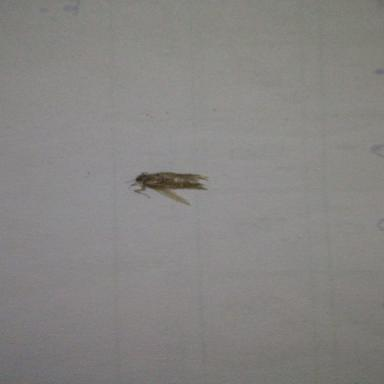pbw: (124, 171, 209, 205)
